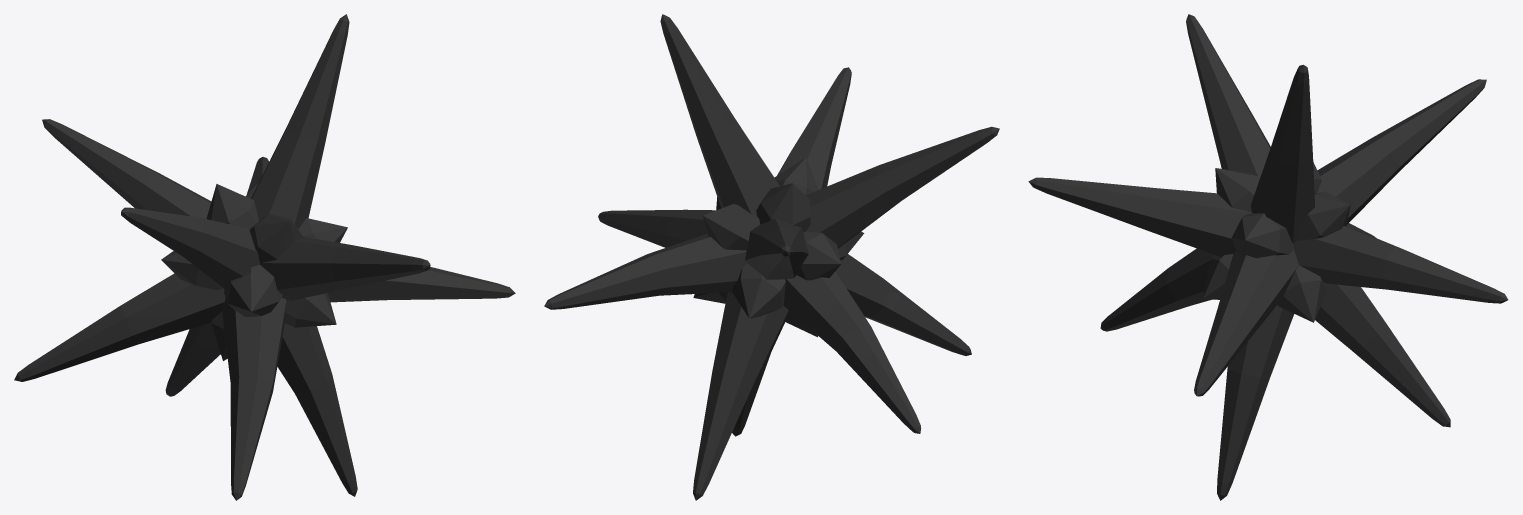
Rendered from HJD_SFB_Fauna_01.fbx.
3 renders of one model, left to right at view 1: azimuth 30°, elevation 25°; view 2: azimuth 150°, elevation 25°; view 3: azimuth 270°, elevation 25°, orthographic.
Parts seen in each view (by area): view 1: HJD_SFB_Asset; view 2: HJD_SFB_Asset; view 3: HJD_SFB_Asset.
Boxes of the visible parts, <box> form: HJD_SFB_Asset: <box>14,14,515,500</box>; HJD_SFB_Asset: <box>544,14,999,500</box>; HJD_SFB_Asset: <box>1028,14,1508,500</box>.
Bounding box in the file's own units: 60.01 × 61.94 × 59.57.
